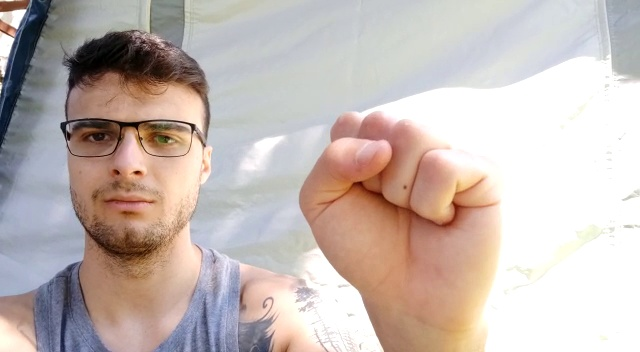Fist: (297, 103, 508, 343)
